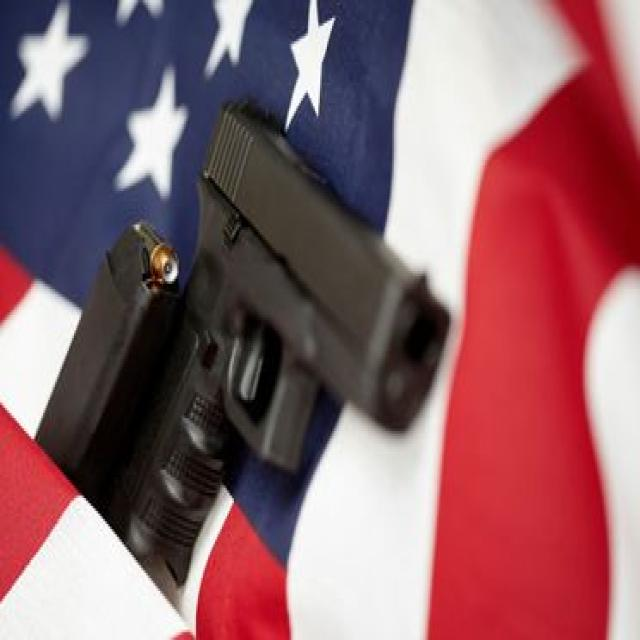HandGun: (105, 106, 451, 588)
